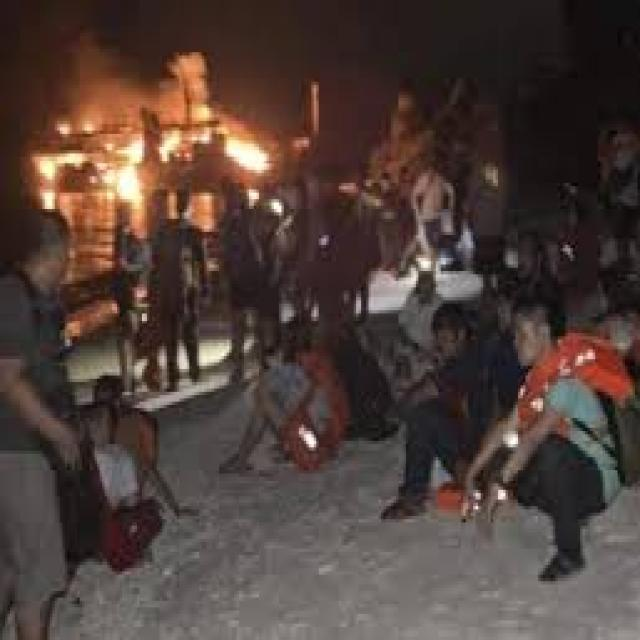Fire: (36, 127, 146, 230), (174, 108, 285, 194)
